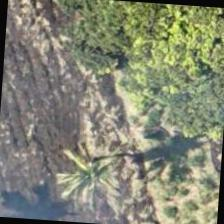Kelapa_Sawit: (46, 115, 142, 211)
